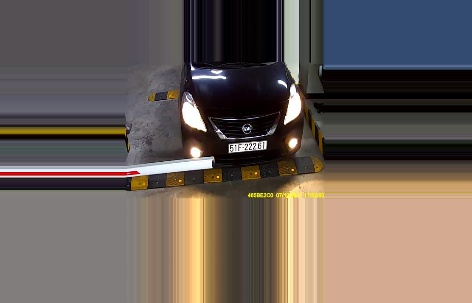plate: (227, 142, 269, 154)
